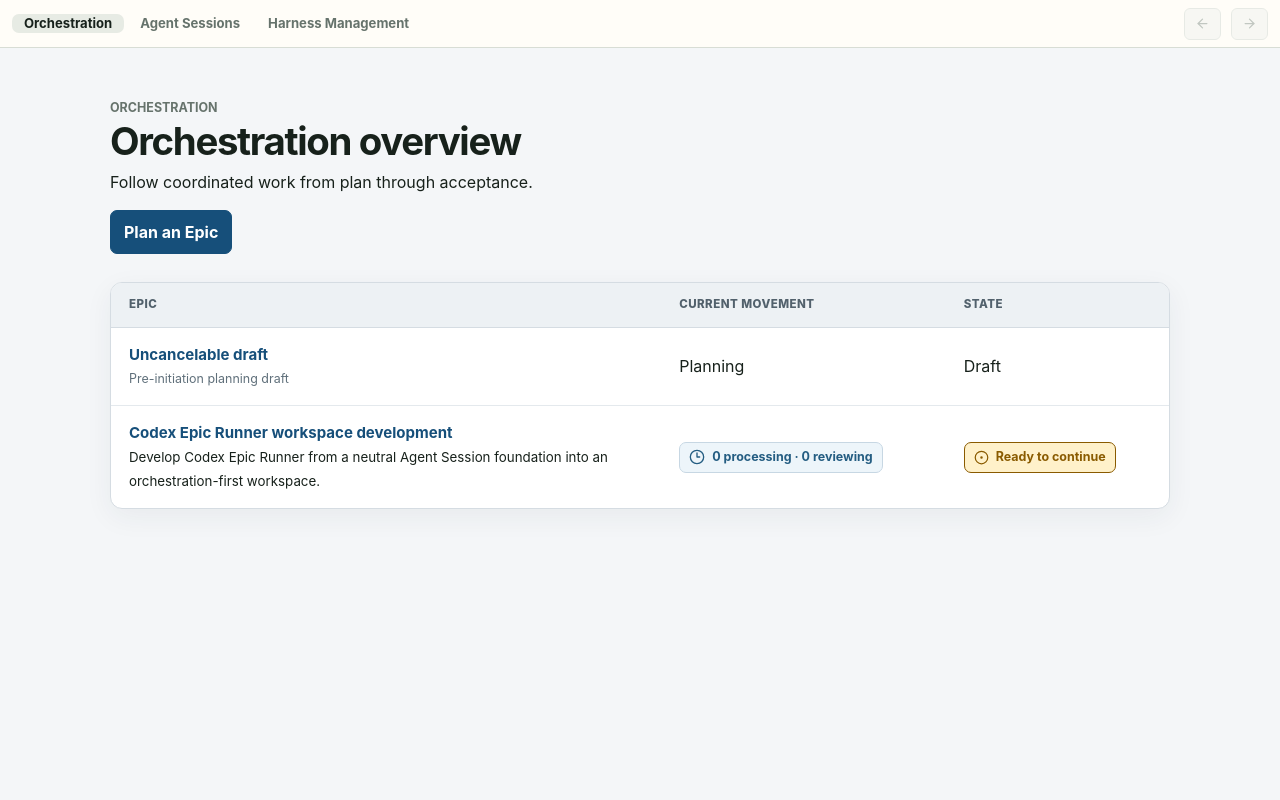
Scenario: App orchestration loading › keeps the draft open and reports a durable cancellation failure
Step 1. Click the button "Uncancelable draft Pre-initiation planning draft" → [199, 354], box x1=129 y1=344 x2=643 y2=389
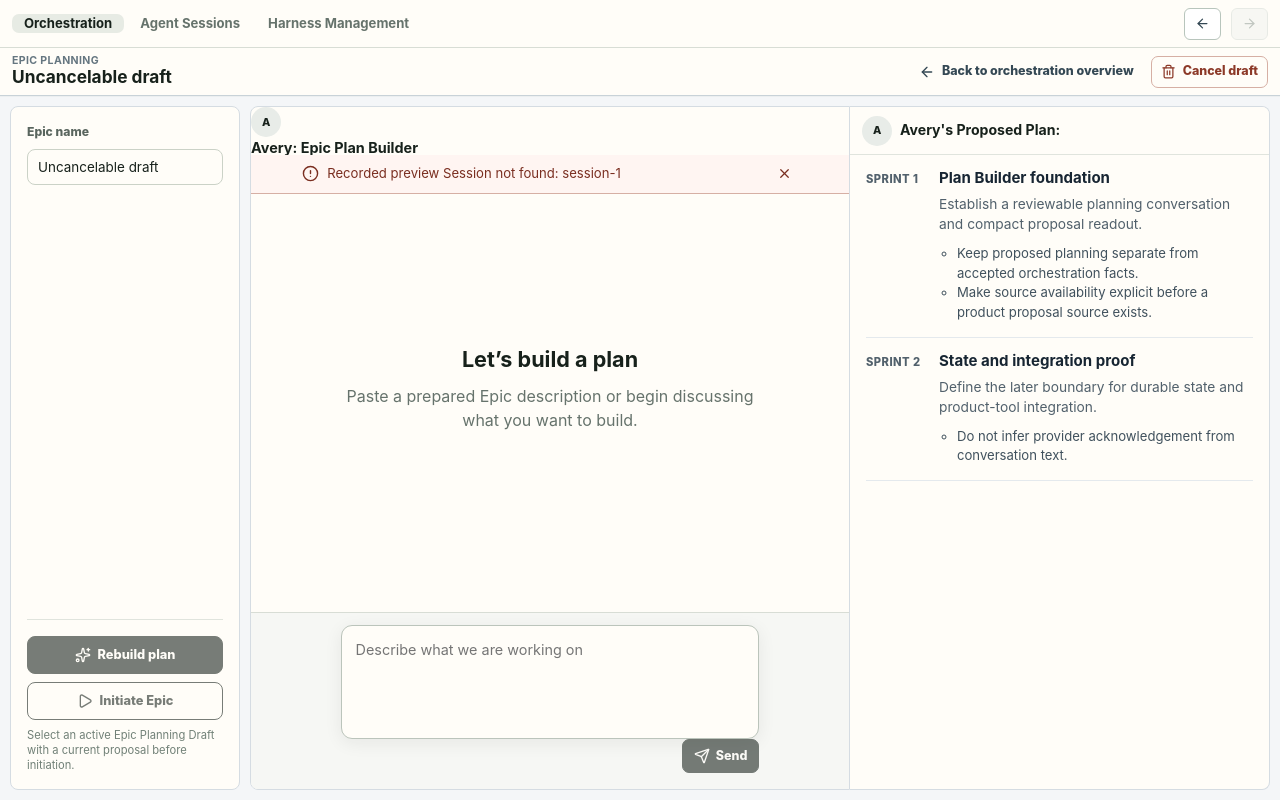
Expected: the element named "Plan an Epic" is shown
Step 2. Click the button "Cancel draft" → [1209, 72], box x1=1151 y1=56 x2=1268 y2=88
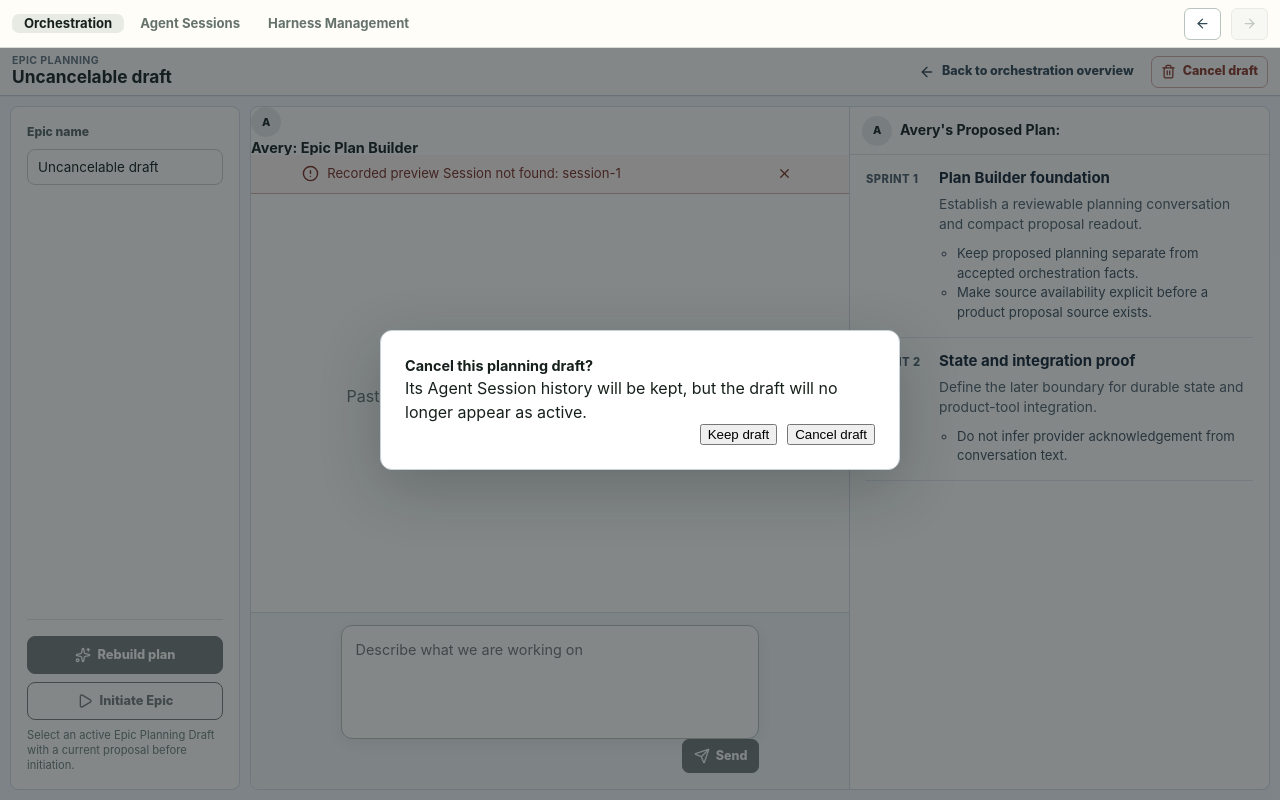
Step 3. Click the button "Cancel draft" → [831, 435], box x1=787 y1=424 x2=875 y2=445
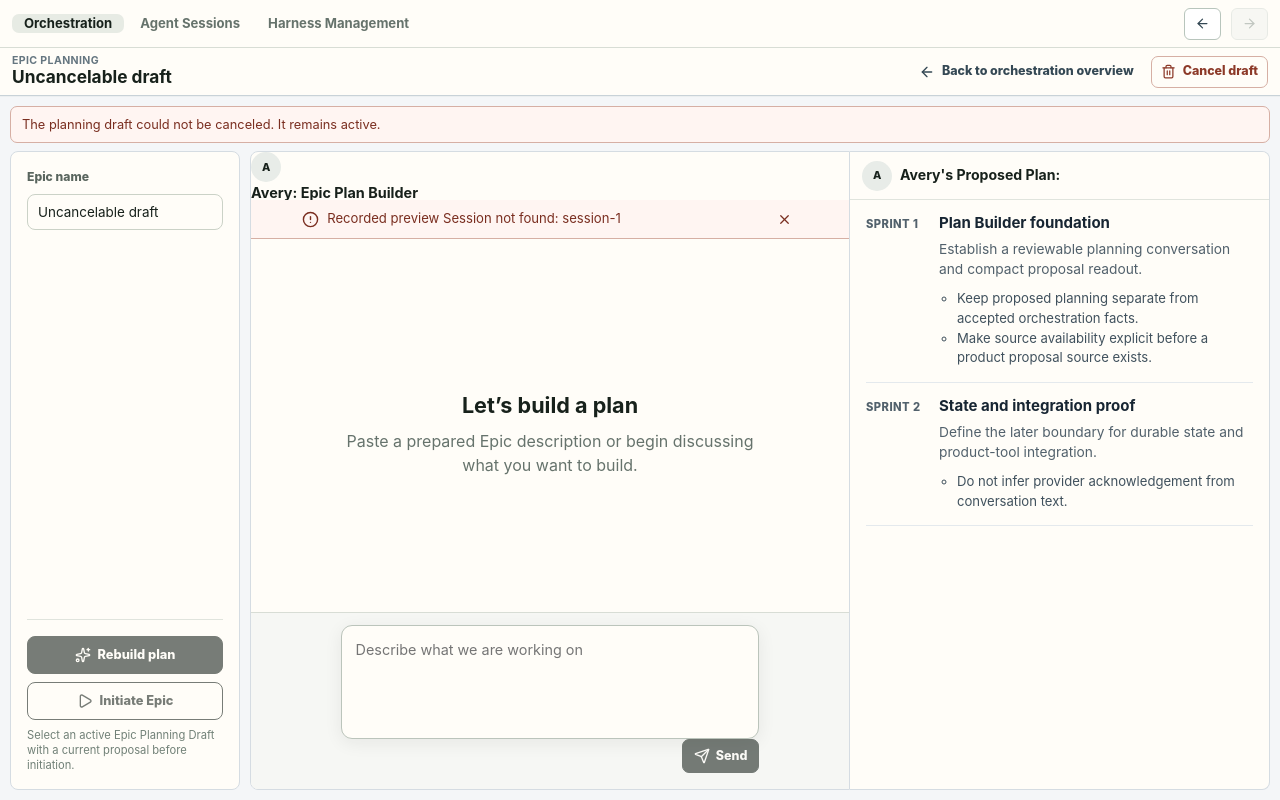
Expected: the button "Cancel draft" is enabled, x1=1151 y1=56 x2=1268 y2=88
Expected: the text "The planning draft could not be canceled. It remains active." is shown, x1=10 y1=106 x2=1270 y2=143
Expected: the element named "Plan an Epic" is shown
